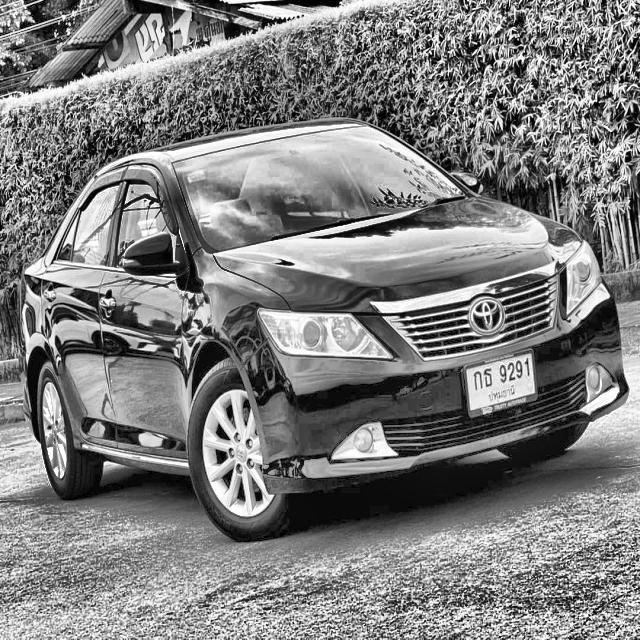license-plate: (462, 348, 538, 420)
